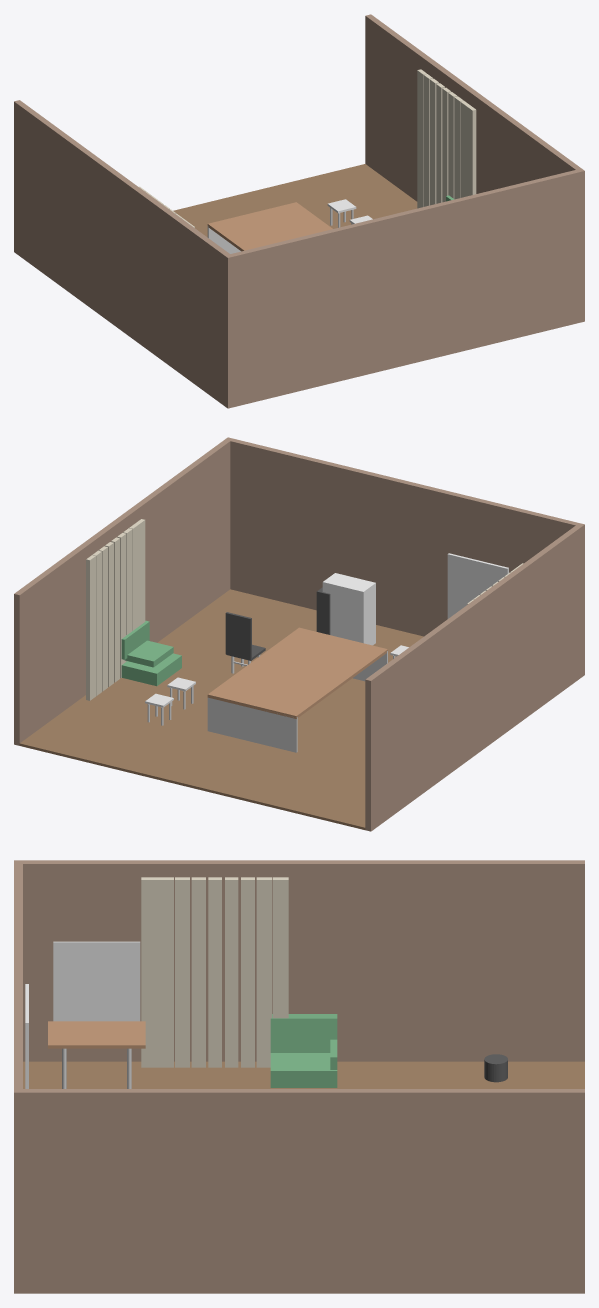
3 views of the same model, one above another, from view 1: azimuth 30°, elevation 25°; view 2: azimuth 150°, elevation 25°; view 3: azimuth 270°, elevation 25° (orthographic). The views are drawn at different scales.
Parts seen in each view (by area): view 1: Wall_Back, Wall_Left, Wall_Right, Floor, Table_Top, Curtain_Right_fold_0, Curtain_Right_fold_8, Curtain_Right_fold_7, Curtain_Right_fold_6, Curtain_Right_fold_5, Curtain_Right_fold_4, Curtain_Right_fold_3 (+2 smaller); view 2: Wall_Back, Floor, Wall_Left, Wall_Right, Table_Top, Table_Support_Front, Cabinet_High, Whiteboard, Curtain_Right_fold_8, Sofa_Base.001, OfficeChair_Back, Curtain_Right_fold_7 (+10 smaller); view 3: Wall_Right, Wall_Left, Floor, Window_Frame_Outer, Sofa_Base, Wall_Back, Curtain_Left_fold_0, Curtain_Left_fold_1, Curtain_Left_fold_7, Curtain_Left_fold_2, Curtain_Left_fold_3, Small_Table_Top (+5 smaller).
Part boxes in pixels (x1,y1,x2,y2): Wall_Back: [224, 168, 584, 408]; Wall_Left: [14, 100, 229, 405]; Wall_Right: [365, 14, 581, 201]; Floor: [173, 164, 417, 237]; Table_Top: [207, 202, 332, 251]; Curtain_Right_fold_0: [466, 105, 476, 196]; Curtain_Right_fold_8: [417, 69, 426, 208]; Curtain_Right_fold_7: [423, 74, 432, 206]; Curtain_Right_fold_6: [430, 78, 438, 205]; Curtain_Right_fold_5: [436, 83, 444, 203]; Curtain_Right_fold_4: [442, 87, 451, 202]; Curtain_Right_fold_3: [448, 92, 457, 198]; Wall_Back: [225, 437, 584, 676]; Floor: [19, 589, 423, 829]; Wall_Left: [365, 525, 581, 831]; Wall_Right: [14, 439, 230, 745]; Table_Top: [207, 627, 387, 718]; Table_Support_Front: [207, 697, 297, 752]; Cabinet_High: [322, 573, 375, 645]; Whiteboard: [447, 553, 508, 618]; Curtain_Right_fold_8: [86, 555, 95, 700]; Sofa_Base.001: [121, 653, 181, 686]; OfficeChair_Back: [225, 612, 251, 660]; Curtain_Right_fold_7: [92, 550, 101, 696]; Wall_Right: [23, 1089, 584, 1293]; Wall_Left: [23, 860, 584, 1061]; Floor: [23, 1061, 584, 1088]; Window_Frame_Outer: [53, 941, 140, 1021]; Sofa_Base: [270, 1014, 337, 1087]; Wall_Back: [14, 860, 22, 1293]; Curtain_Left_fold_0: [141, 877, 157, 1067]; Curtain_Left_fold_1: [158, 877, 173, 1067]; Curtain_Left_fold_7: [256, 877, 271, 1067]; Curtain_Left_fold_2: [175, 877, 189, 1067]; Curtain_Left_fold_3: [191, 877, 205, 1067]; Small_Table_Top: [48, 1021, 145, 1048].
Bounding box in the file's own units: 7.44 × 3 × 7.72.
